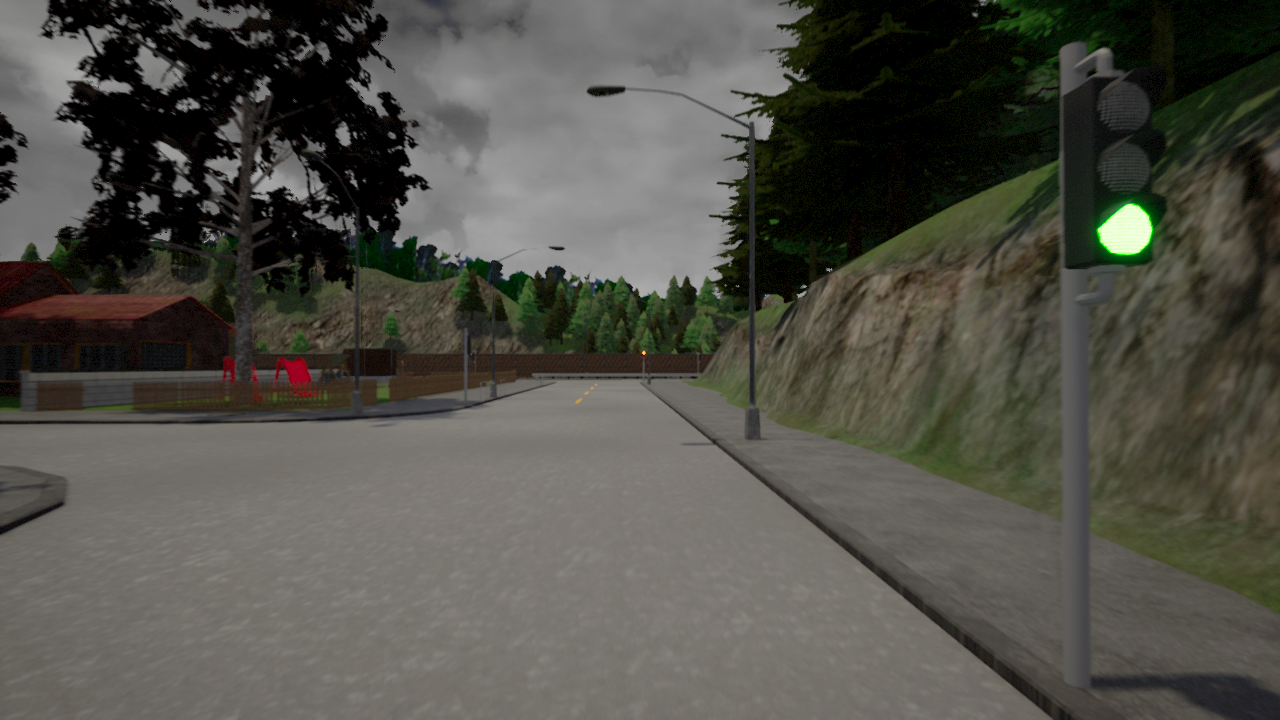green: (1065, 75, 1164, 270)
